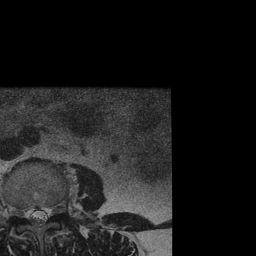CCS_normal: (34, 199, 42, 233)
LFS_normal: (50, 195, 59, 222)
LLS_normal: (42, 196, 50, 229)
RFS_normal: (16, 198, 25, 223)
RLS_normal: (26, 199, 34, 230)
